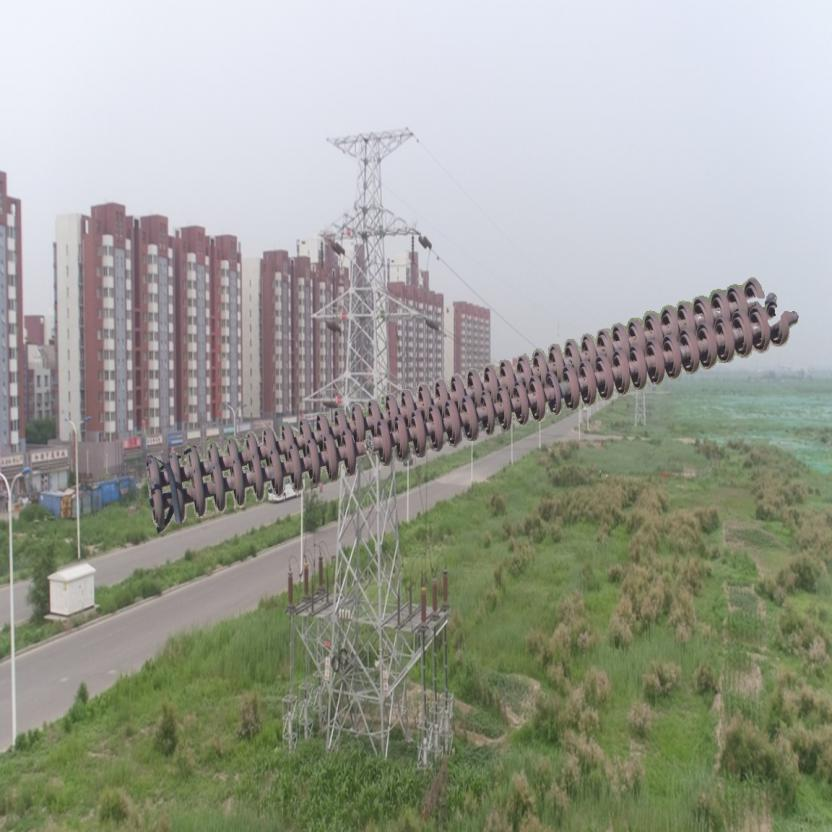defect: (337, 416, 397, 475)
